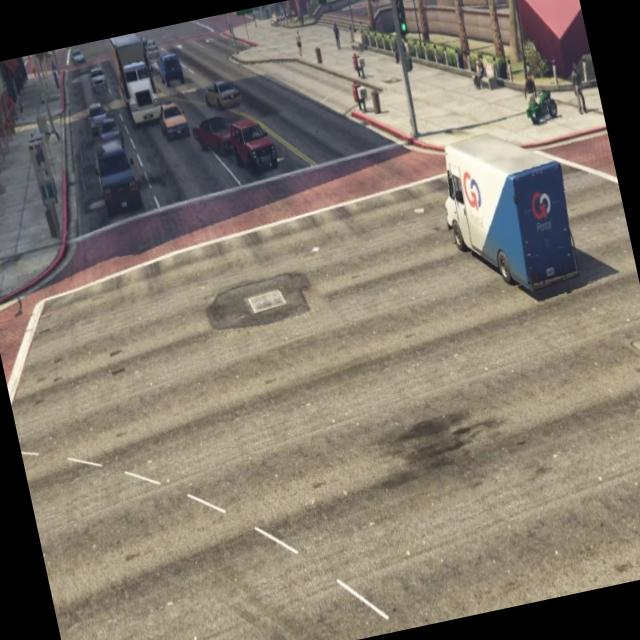Green-Signal: (389, 0, 414, 48), (233, 6, 258, 24), (314, 0, 333, 15)
